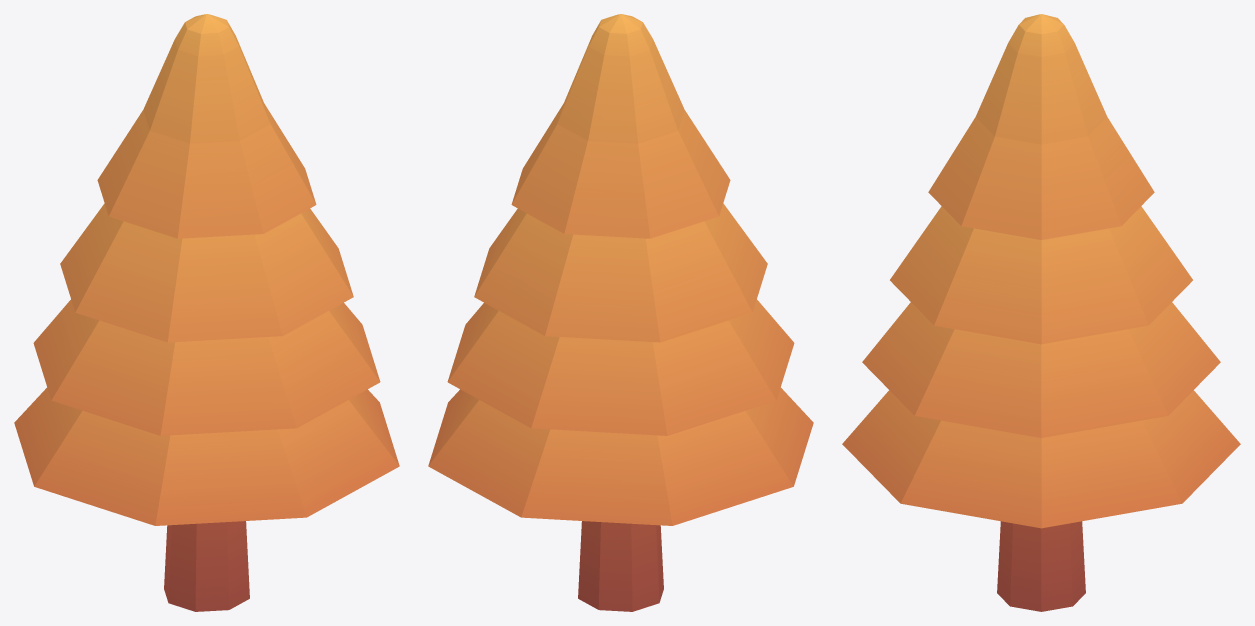
Rendered from Tree1_Yellow.glb.
3 views of the same model, side by side, from view 1: azimuth 30°, elevation 25°; view 2: azimuth 150°, elevation 25°; view 3: azimuth 270°, elevation 25° (orthographic).
Parts seen in each view (by area): view 1: Tree1_Yellow; view 2: Tree1_Yellow; view 3: Tree1_Yellow.
Part boxes in pixels (<box>): Tree1_Yellow: <box>14,14,399,611</box>; Tree1_Yellow: <box>428,14,813,611</box>; Tree1_Yellow: <box>842,14,1240,611</box>.
Size of the model in its own units: 2.94 by 4.7 by 2.94.
1 material, 1 textured.
